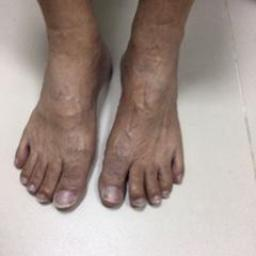Dorsal View -Both Feet-: (7, 3, 192, 225)
